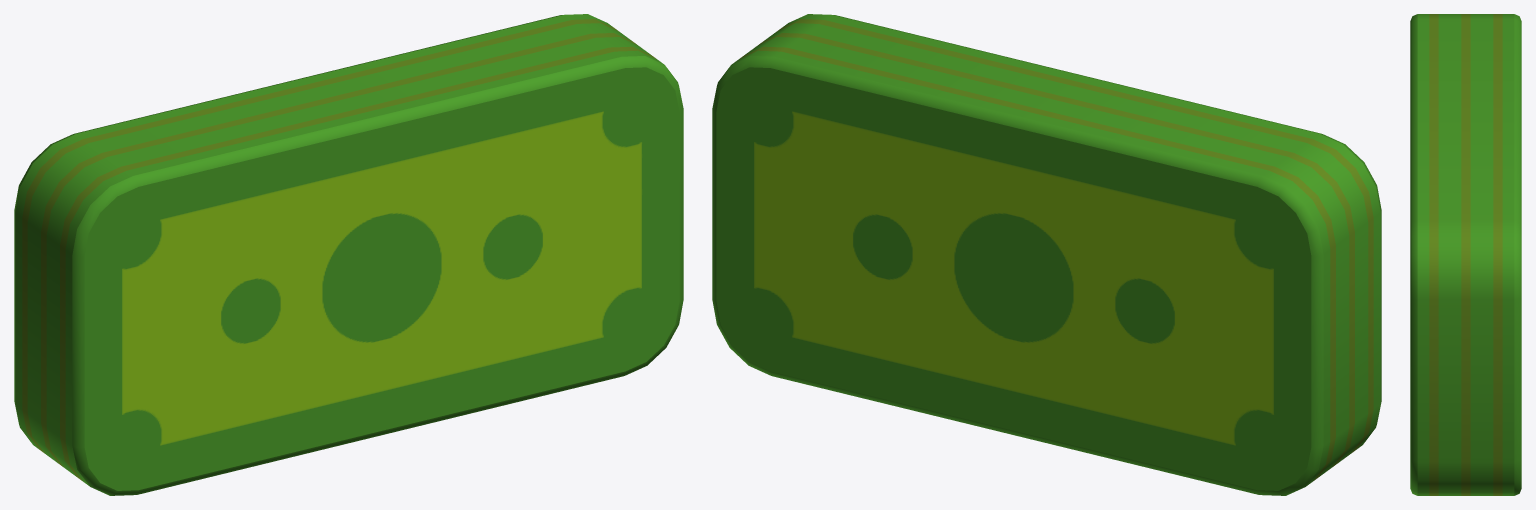
The model's file is MoneyPile.fbx.
3 views of the same model, side by side, from view 1: azimuth 30°, elevation 25°; view 2: azimuth 150°, elevation 25°; view 3: azimuth 270°, elevation 25° (orthographic). The views are drawn at different scales.
Visible parts, largest first — view 1: MoneyPile; view 2: MoneyPile; view 3: MoneyPile.
Part boxes in pixels (<box>): MoneyPile: <box>14,14,683,495</box>; MoneyPile: <box>712,14,1381,495</box>; MoneyPile: <box>1410,14,1521,495</box>.
Bounding box in the file's own units: 400 × 200 × 74.93.
